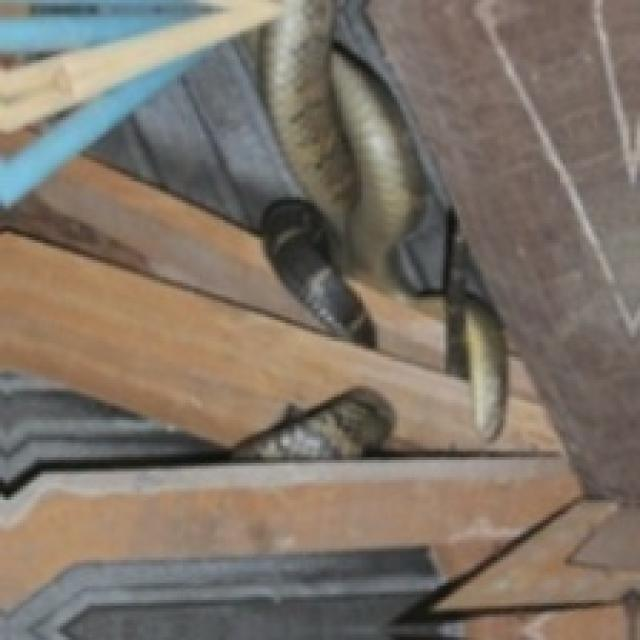king cobra: (260, 0, 431, 291), (0, 371, 391, 491), (434, 209, 503, 437), (326, 269, 377, 346)
